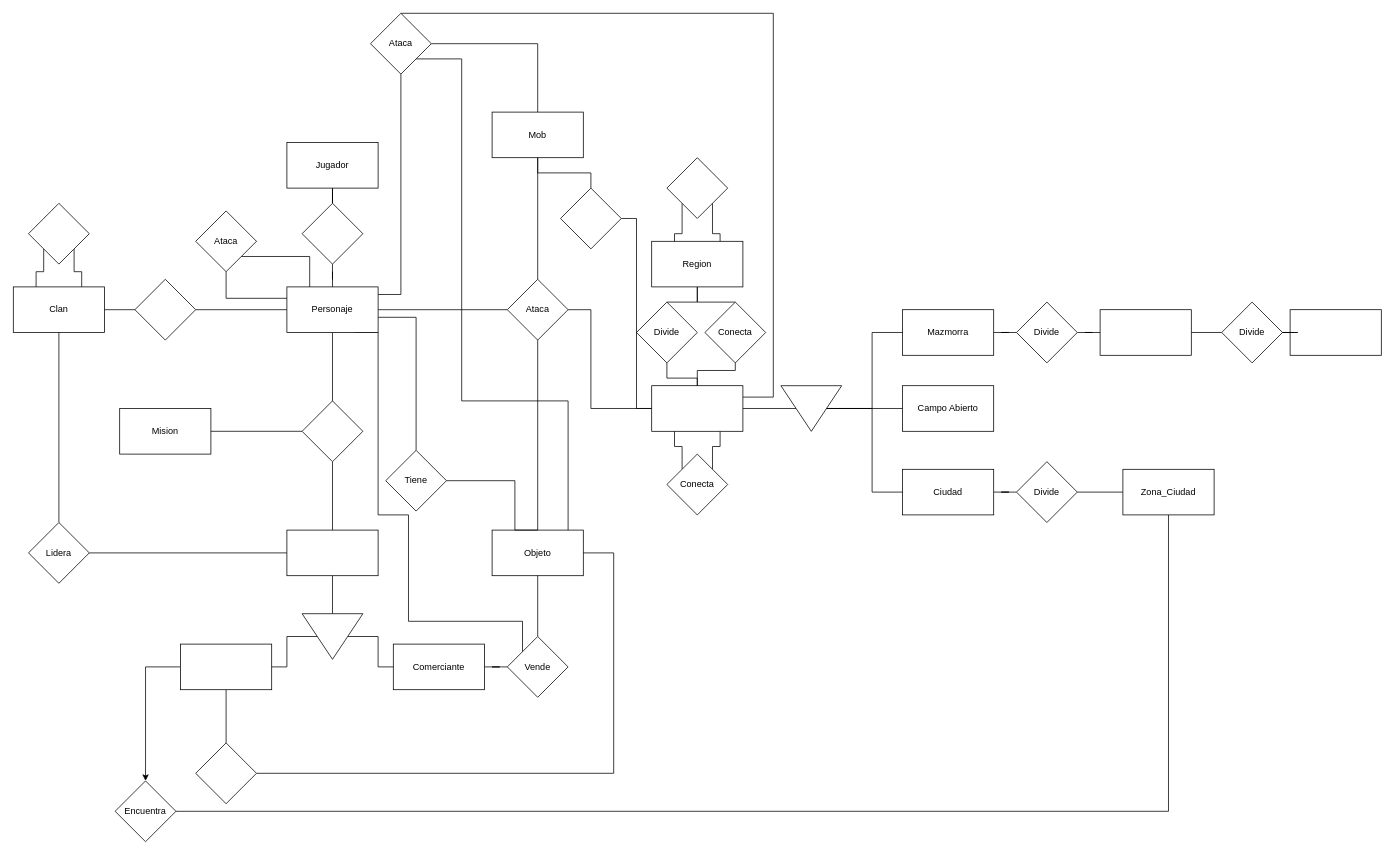
This 1395x855 diagram has some shape labels left out. The centre of each missing label's shape, as x and y in pixels:
"Artesano" goes at pixel 226 666.
"Concecta" goes at pixel 697 187.
"Fabrica" goes at pixel 225 773.
"Guerra" goes at pixel 58 233.
"Habitacion" goes at pixel 1335 332.
"Lugar" goes at pixel 697 408.
"NPC" goes at pixel 332 552.
"Pertence" goes at pixel 165 309.
"Pertenece" goes at pixel 332 233.
"Plantas" goes at pixel 1145 332.
"Reaparece" goes at pixel 590 218.
"Recibe" goes at pixel 332 431.
